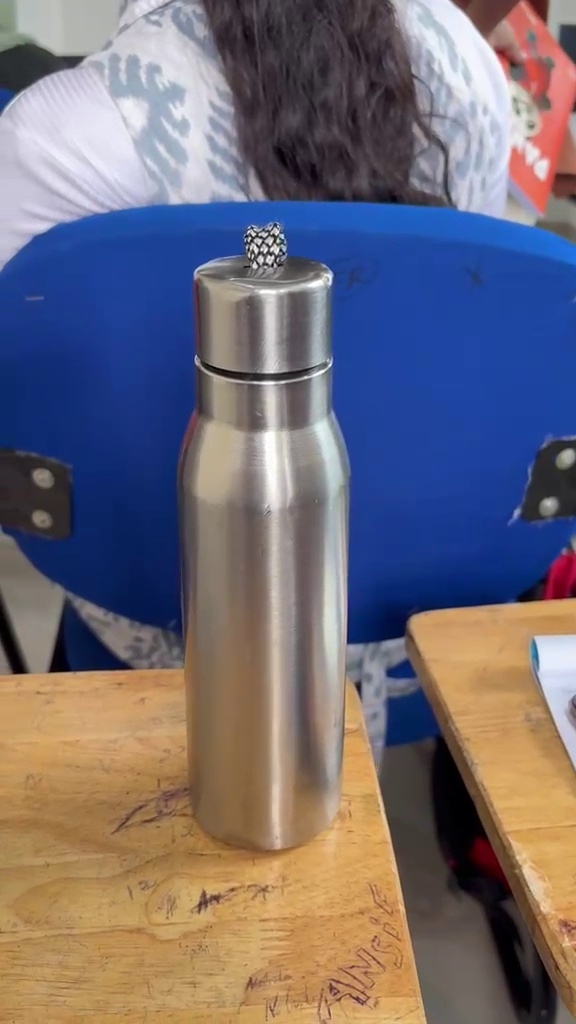Bottle: (176, 218, 358, 872)
